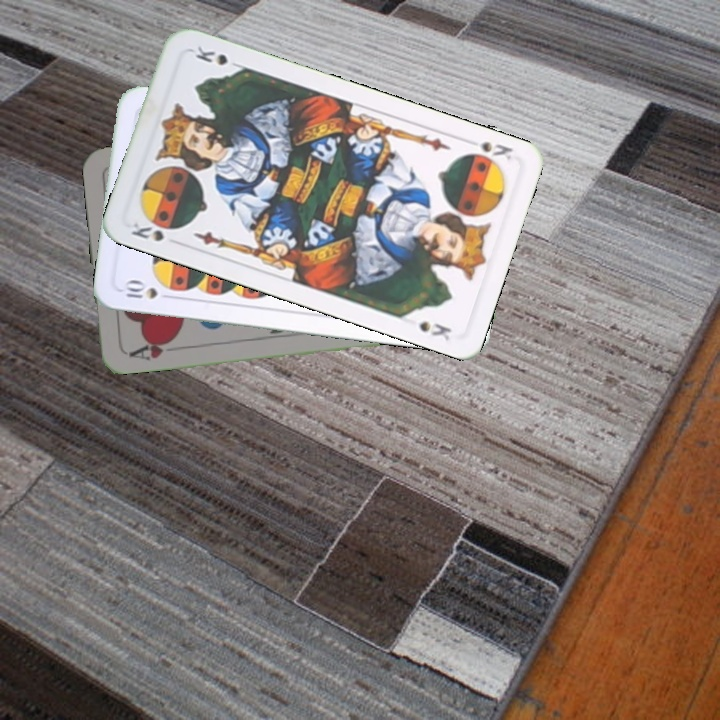HA: (124, 334, 178, 364)
S10: (117, 278, 176, 302)
SK: (461, 134, 516, 168), (127, 218, 183, 248)
